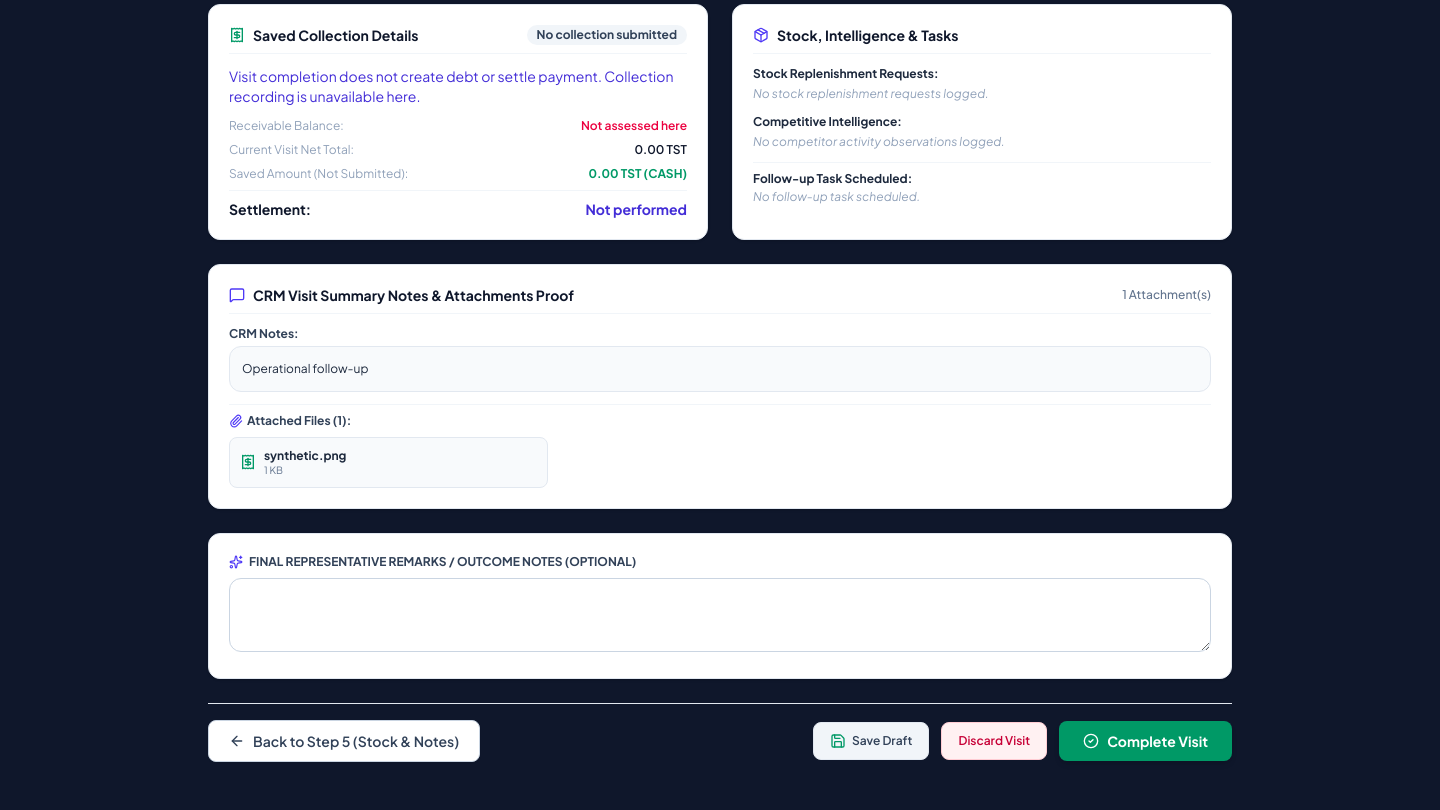
Scenario: Visit financial UI retirement › Step 6 completes zero collection without claiming payment or debt
The image size is (1440, 810).
(page scrolled)
What coordinates should you click on to do the following:
click the button "Complete Visit"
I would click on:
 (1146, 741)
Its box is [1059,721,1232,761].
(page scrolled)
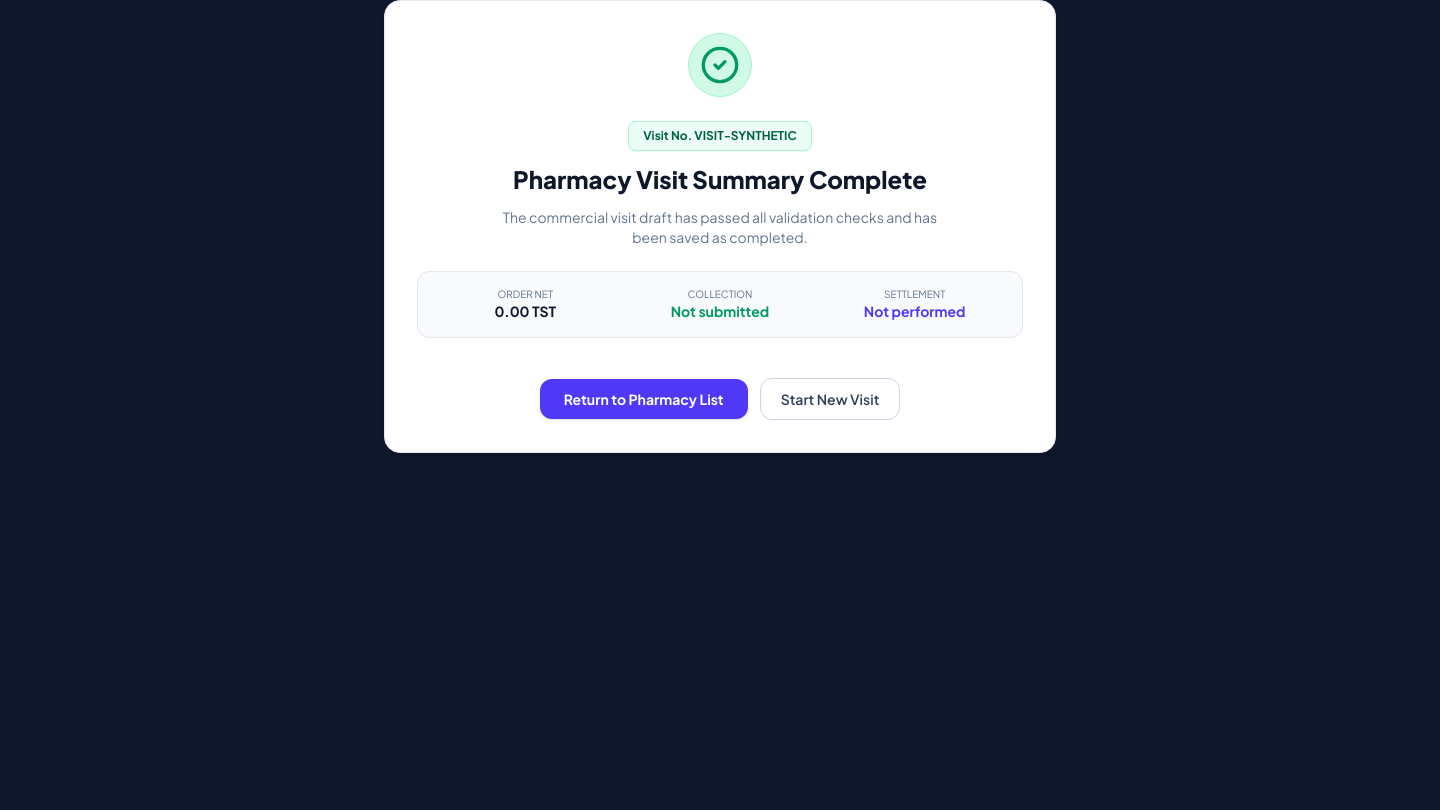
Expected: the text "Not submitted" is shown, [671,302,769,320]
Now the text "saved as completed" is shown, box [503,208,937,246]
